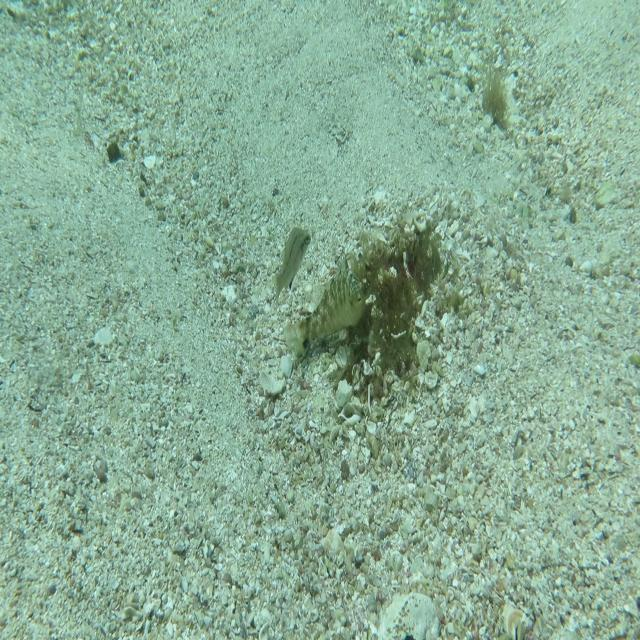LF: (284, 247, 366, 373)
core_nest: (381, 243, 433, 279)
female: (270, 224, 312, 304)
nest: (326, 209, 446, 408)
